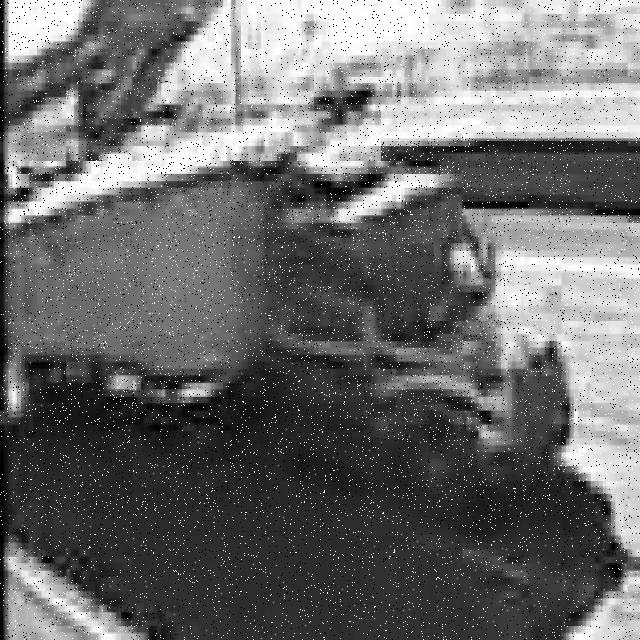Box Truck: (5, 138, 570, 519)
